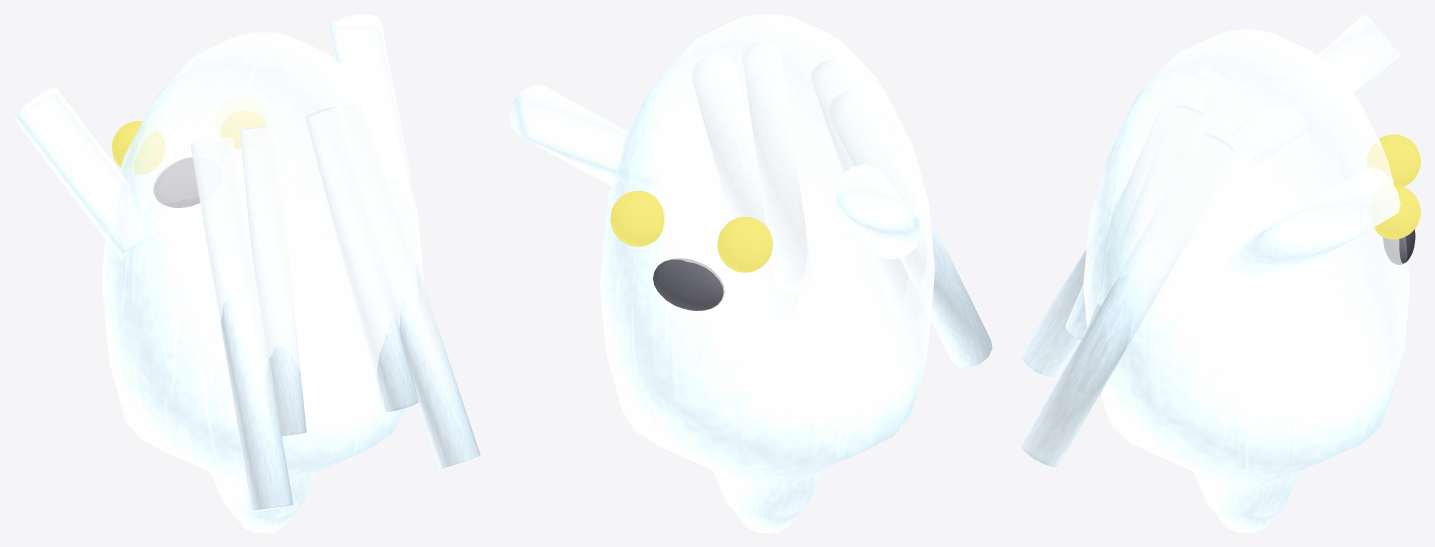
File: banshee.glb
3 renders of one model, left to right at view 1: azimuth 30°, elevation 25°; view 2: azimuth 150°, elevation 25°; view 3: azimuth 270°, elevation 25°, orthographic. The views are drawn at different scales.
Parts seen in each view (by area): view 1: Body, HairStrand, HairStrand.001, HairStrand2.001, HairStrand2, Arm, Arm.001, Mouth, Eye, Eye.001; view 2: Body, HairStrand, HairStrand2.001, Arm.001, HairStrand.001, Arm, HairStrand2, Mouth, Eye, Eye.001; view 3: Body, HairStrand.001, Arm.001, Arm, HairStrand2.001, HairStrand2, HairStrand, Eye, Eye.001, Mouth.
Part boxes in pixels (x1=…): Body: x1=102, y1=32, x2=424, y2=532; HairStrand: x1=191, y1=138, x2=293, y2=511; HairStrand.001: x1=342, y1=102, x2=480, y2=468; HairStrand2.001: x1=305, y1=107, x2=418, y2=411; HairStrand2: x1=239, y1=126, x2=306, y2=435; Arm: x1=14, y1=87, x2=162, y2=259; Arm.001: x1=328, y1=14, x2=411, y2=192; Mouth: x1=154, y1=158, x2=199, y2=207; Eye: x1=111, y1=121, x2=165, y2=174; Eye.001: x1=221, y1=111, x2=266, y2=149; Body: x1=600, y1=14, x2=934, y2=532; HairStrand: x1=829, y1=89, x2=992, y2=367; HairStrand2.001: x1=743, y1=42, x2=807, y2=283; Arm.001: x1=509, y1=85, x2=663, y2=193; HairStrand.001: x1=692, y1=55, x2=765, y2=225; Arm: x1=835, y1=164, x2=921, y2=259; HairStrand2: x1=811, y1=59, x2=907, y2=309; Mouth: x1=653, y1=258, x2=724, y2=310; Eye: x1=717, y1=217, x2=772, y2=272; Eye.001: x1=610, y1=190, x2=665, y2=246; Body: x1=1083, y1=29, x2=1409, y2=532; HairStrand.001: x1=1021, y1=133, x2=1237, y2=466; Arm.001: x1=1229, y1=167, x2=1400, y2=295; Arm: x1=1230, y1=14, x2=1400, y2=171; HairStrand2.001: x1=1077, y1=105, x2=1208, y2=395; HairStrand2: x1=1066, y1=71, x2=1208, y2=340; HairStrand: x1=1021, y1=67, x2=1237, y2=376; Eye: x1=1367, y1=134, x2=1420, y2=186; Eye.001: x1=1372, y1=185, x2=1420, y2=239; Mouth: x1=1383, y1=229, x2=1415, y2=264.
Bounding box in the file's own units: 0.7752 × 1 × 0.7344.
4 materials, 2 textured.
